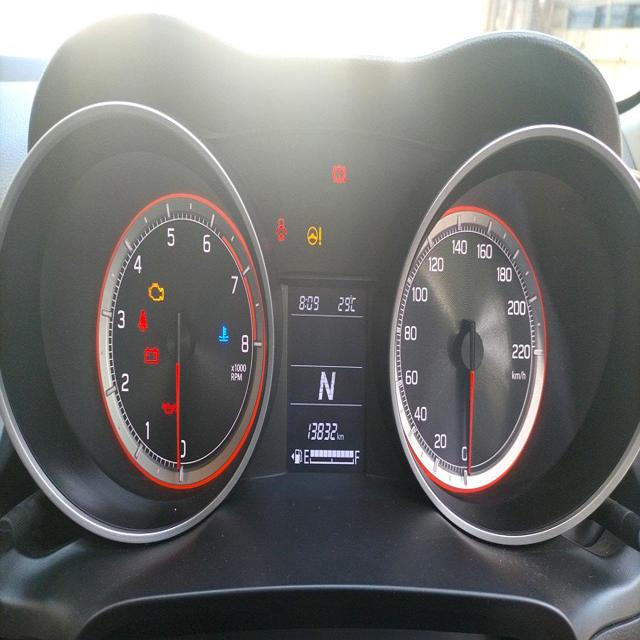odometer: (306, 416, 337, 441)
